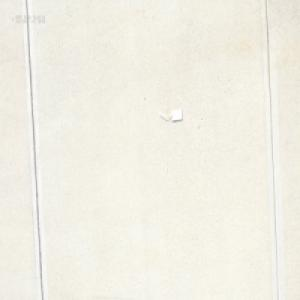LuggageTag: (159, 107, 183, 123)
